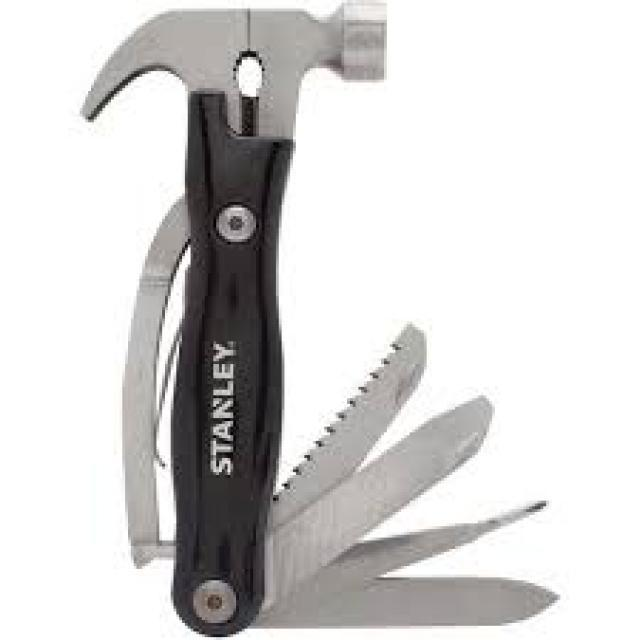hammer: (73, 0, 392, 635)
